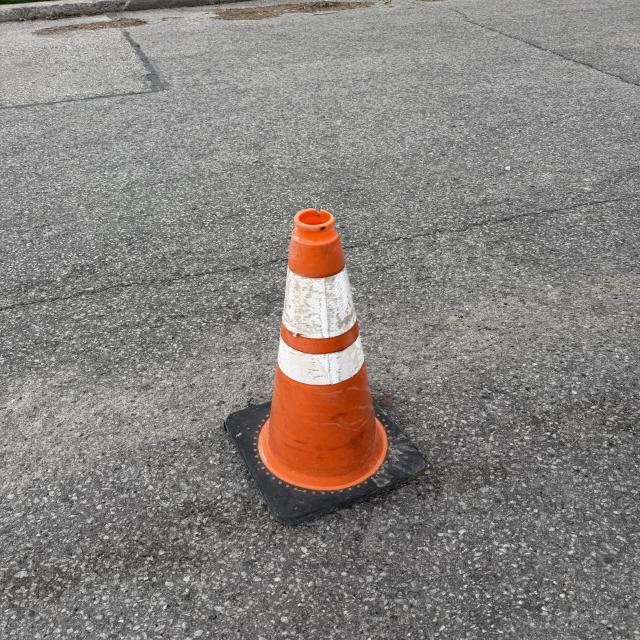Traffic Cone: (222, 204, 427, 527)
